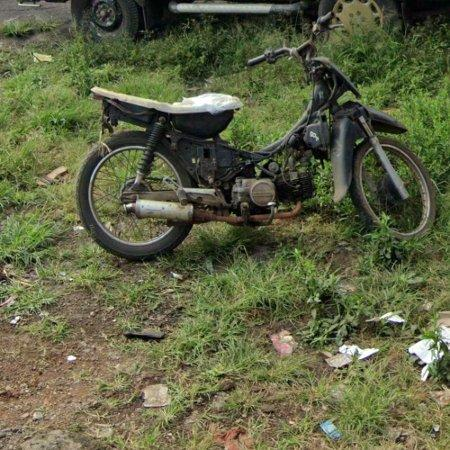motorcycles: (77, 39, 437, 260)
